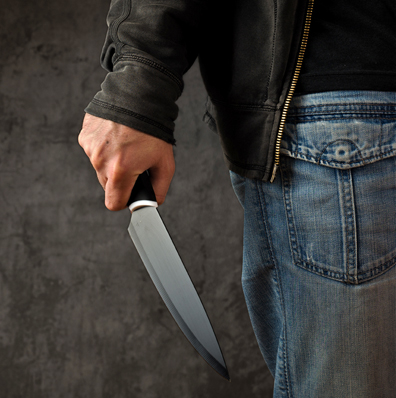knife: (78, 150, 235, 387)
